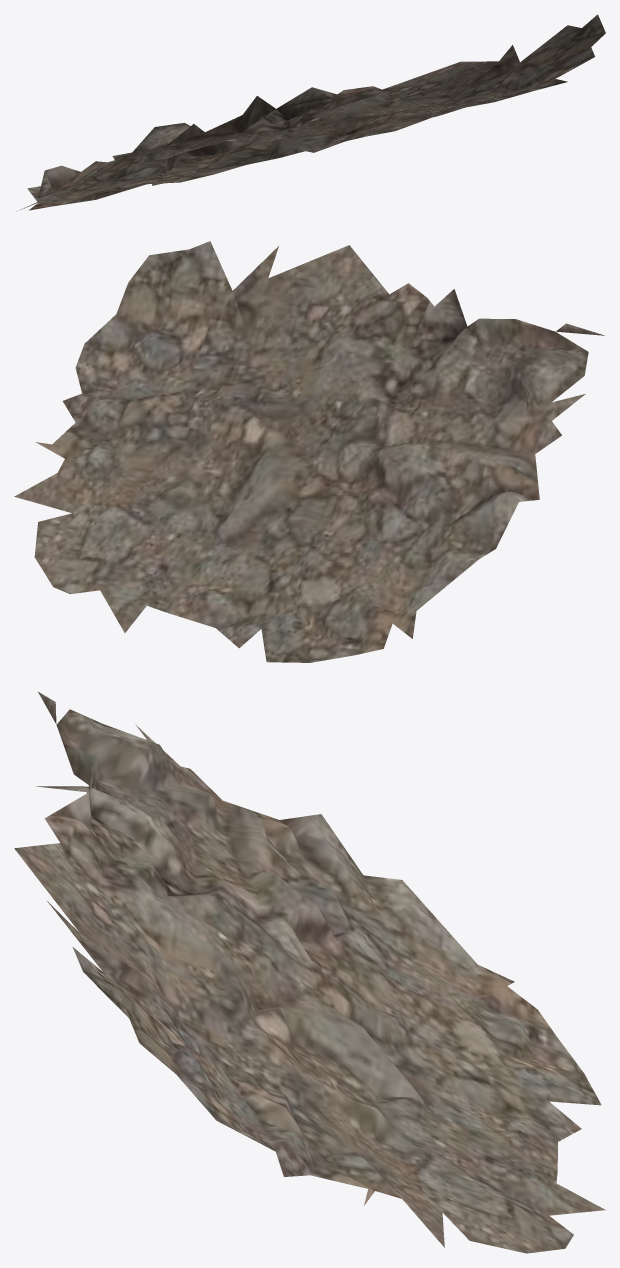
Rendered from bosque_roca.glb.
The picture shows the model from 3 angles, top to bottom: view 1: azimuth 30°, elevation 25°; view 2: azimuth 150°, elevation 25°; view 3: azimuth 270°, elevation 25°; orthographic projection. The views are drawn at different scales.
Visible parts, largest first — view 1: bosque_roca.glb; view 2: bosque_roca.glb; view 3: bosque_roca.glb.
Part boxes in pixels (x1,y1,x2,y2): bosque_roca.glb: (16,14,605,211); bosque_roca.glb: (14,241,604,662); bosque_roca.glb: (14,692,605,1253).
Bounding box in the file's own units: 14.44 × 7.01 × 10.78.
Materials: 1 (1 with a texture image).
